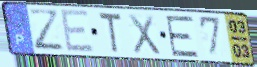7: (197, 14, 223, 60)
E: (58, 8, 96, 55), (164, 15, 201, 59)
T: (97, 10, 123, 56)
X: (126, 12, 163, 57)
Z: (26, 7, 67, 52)
